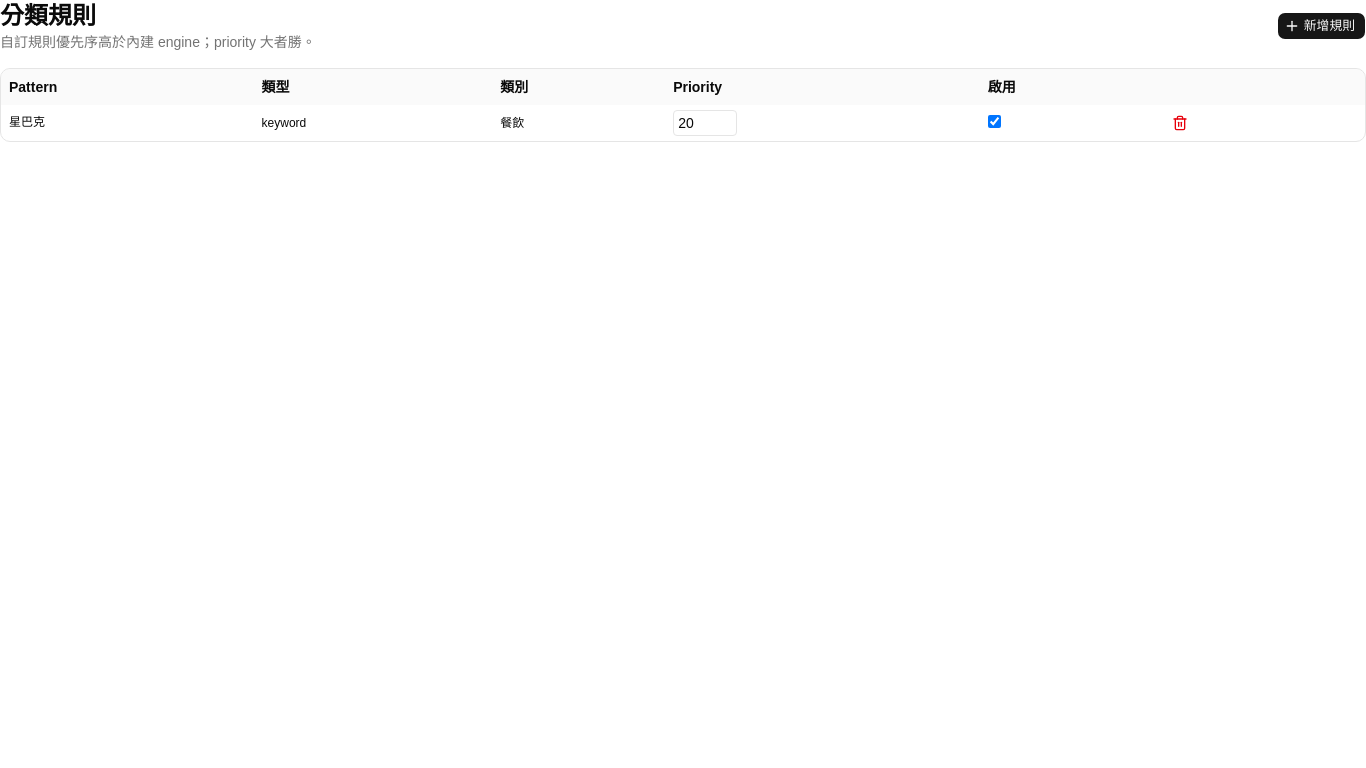
Test: SettingsRulesPage › shows error banner when DELETE fails
Click the button named "delete 星巴克": coordinates (1180, 123) x1=1161 y1=109 x2=1199 y2=137
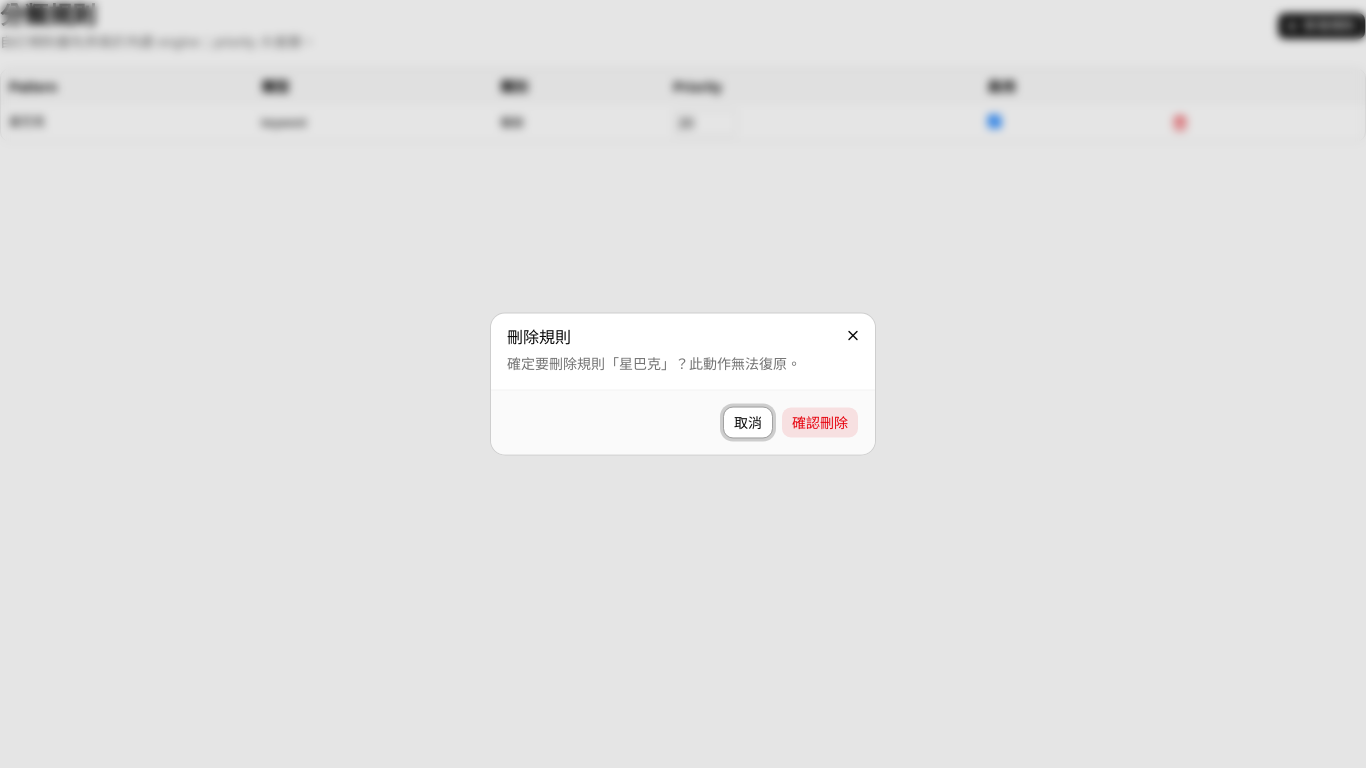
Expected: the dialog is shown, x1=491 y1=314 x2=875 y2=454
Click the button "確認刪除": coordinates (820, 422) x1=781 y1=406 x2=859 y2=438
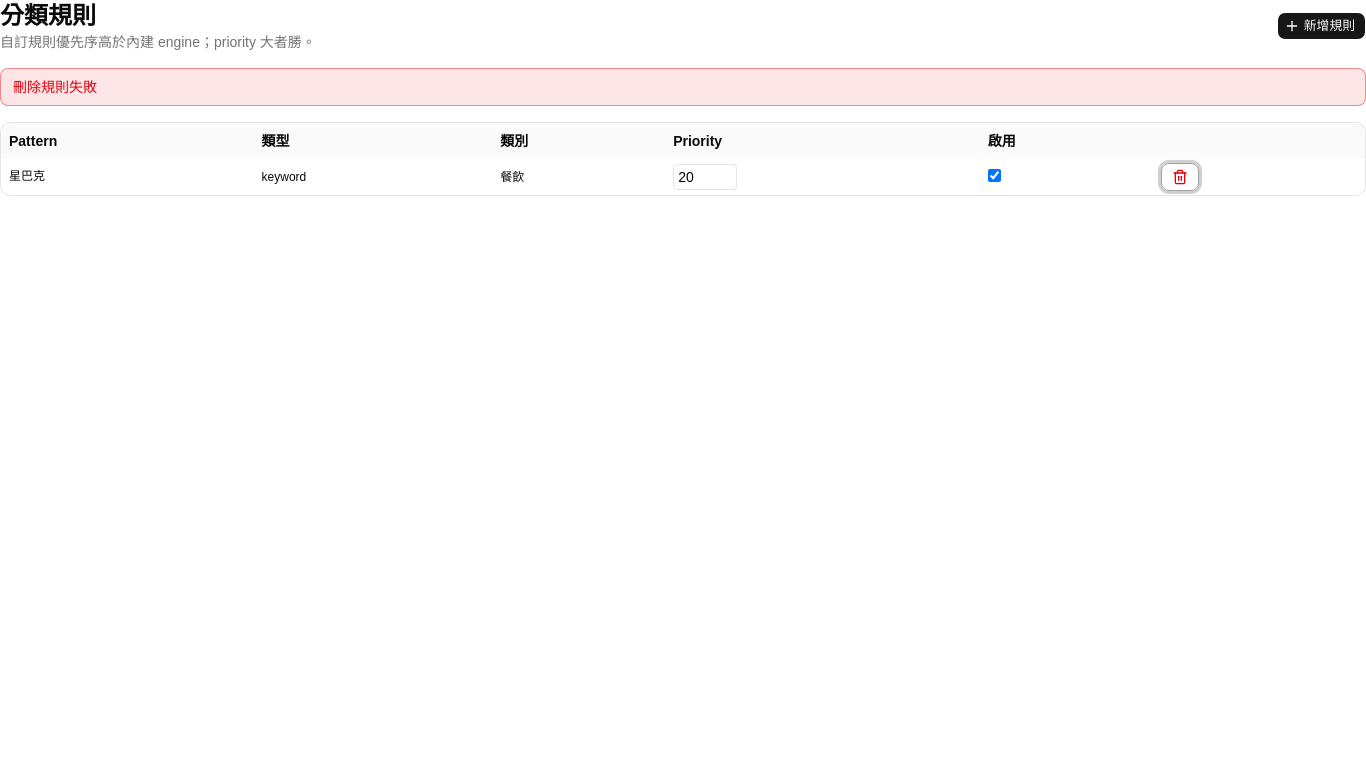
Expected: the message reads "刪除規則失敗", x1=13 y1=79 x2=97 y2=95
